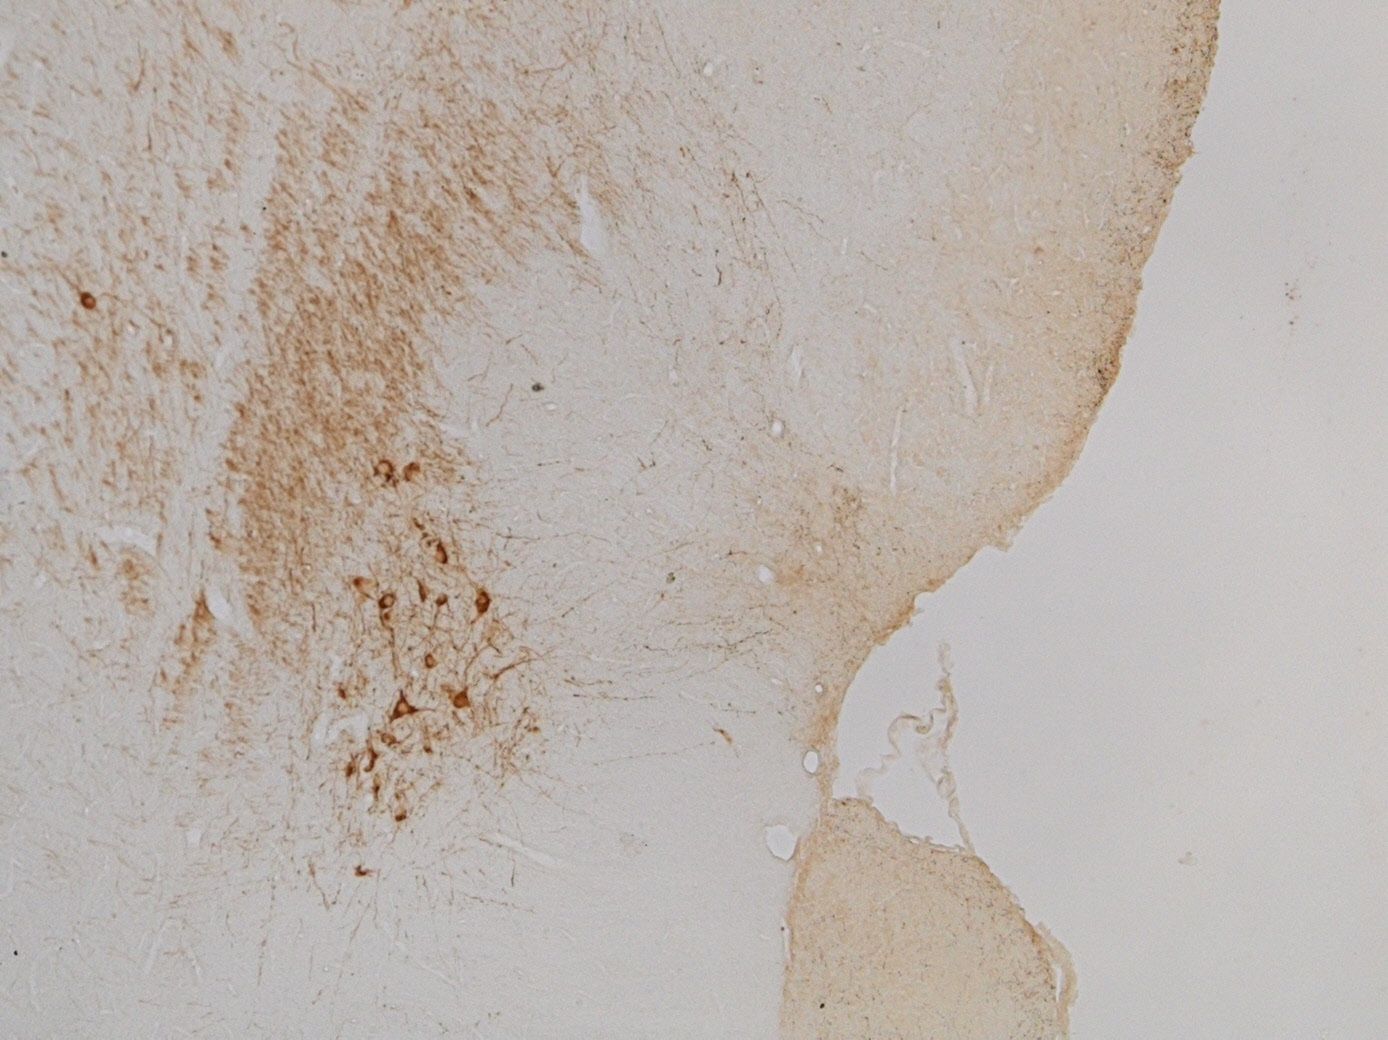neuron: (373, 458, 398, 482), (375, 590, 399, 614), (376, 726, 400, 751), (392, 696, 416, 720), (411, 584, 435, 608), (419, 649, 443, 673), (430, 544, 454, 568), (434, 592, 458, 616), (472, 592, 496, 616), (74, 289, 98, 314), (447, 692, 471, 714)
